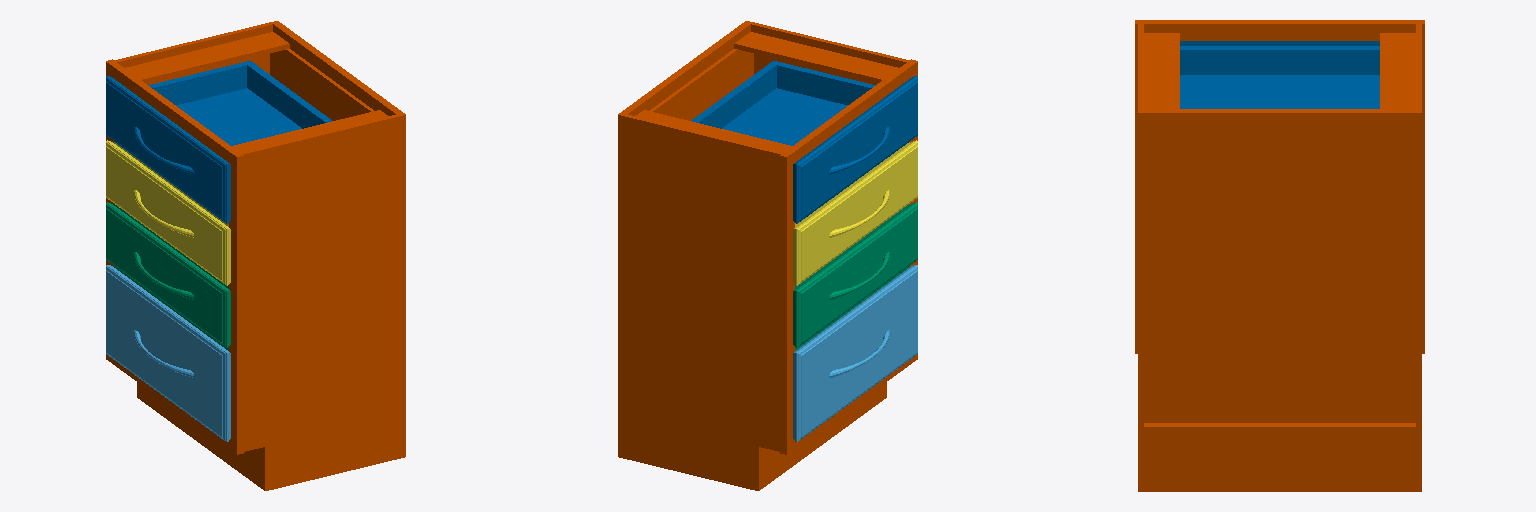
--- What the picture shows (computed from the rendered views, not written in the file) ---
The picture shows the robot from 3 angles, left to right: view 1: azimuth 30°, elevation 25°; view 2: azimuth 150°, elevation 25°; view 3: azimuth 270°, elevation 25°; orthographic projection.
Robot: partnet_973023bbf9c6a603c59350d819542ec7 — 6 links, 5 joints (4 prismatic, 1 fixed); root link base; default pose: all joints at 0.
Links seen in each view (by area): view 1: link_4, link_3, link_0, link_1, link_2; view 2: link_4, link_3, link_0, link_1, link_2; view 3: link_4, link_3.
Boxes of the visible links, left/top/right/bottom form: link_4: left=106, top=21, right=405, bottom=490; link_3: left=106, top=61, right=331, bottom=223; link_0: left=106, top=265, right=230, bottom=441; link_1: left=106, top=202, right=230, bottom=350; link_2: left=106, top=140, right=230, bottom=285; link_4: left=618, top=21, right=917, bottom=490; link_3: left=692, top=61, right=917, bottom=223; link_0: left=793, top=265, right=917, bottom=441; link_1: left=793, top=202, right=917, bottom=350; link_2: left=793, top=140, right=917, bottom=285; link_4: left=1135, top=20, right=1424, bottom=491; link_3: left=1180, top=41, right=1379, bottom=108.
Size in the robot's own frame: 0.8832 by 1.05 by 1.51 metres.
Meshes: 93 distinct files referenced, 93 mesh visuals loaded (93 OBJ).

URDF robot description (partnet_973023bbf9c6a603c59350d819542ec7):
<?xml version="1.0" ?>
<robot name="partnet_973023bbf9c6a603c59350d819542ec7">
	<link name="base"/>
	<link name="link_0">
		<visual name="drawer_front-39">
			<origin xyz="0 0 0"/>
			<geometry>
				<mesh filename="textured_objs/original-64.obj"/>
			</geometry>
		</visual>
		<visual name="drawer_front-39">
			<origin xyz="0 0 0"/>
			<geometry>
				<mesh filename="textured_objs/original-65.obj"/>
			</geometry>
		</visual>
		<visual name="drawer_front-39">
			<origin xyz="0 0 0"/>
			<geometry>
				<mesh filename="textured_objs/original-66.obj"/>
			</geometry>
		</visual>
		<visual name="drawer_front-39">
			<origin xyz="0 0 0"/>
			<geometry>
				<mesh filename="textured_objs/original-67.obj"/>
			</geometry>
		</visual>
		<visual name="drawer_front-39">
			<origin xyz="0 0 0"/>
			<geometry>
				<mesh filename="textured_objs/original-58.obj"/>
			</geometry>
		</visual>
		<visual name="drawer_front-39">
			<origin xyz="0 0 0"/>
			<geometry>
				<mesh filename="textured_objs/original-60.obj"/>
			</geometry>
		</visual>
		<visual name="drawer_front-39">
			<origin xyz="0 0 0"/>
			<geometry>
				<mesh filename="textured_objs/original-68.obj"/>
			</geometry>
		</visual>
		<visual name="drawer_front-39">
			<origin xyz="0 0 0"/>
			<geometry>
				<mesh filename="textured_objs/original-61.obj"/>
			</geometry>
		</visual>
		<visual name="drawer_front-39">
			<origin xyz="0 0 0"/>
			<geometry>
				<mesh filename="textured_objs/original-59.obj"/>
			</geometry>
		</visual>
		<visual name="drawer_front-39">
			<origin xyz="0 0 0"/>
			<geometry>
				<mesh filename="textured_objs/original-63.obj"/>
			</geometry>
		</visual>
		<visual name="drawer_front-39">
			<origin xyz="0 0 0"/>
			<geometry>
				<mesh filename="textured_objs/original-50.obj"/>
			</geometry>
		</visual>
		<visual name="drawer_side-40">
			<origin xyz="0 0 0"/>
			<geometry>
				<mesh filename="textured_objs/original-54.obj"/>
			</geometry>
		</visual>
		<visual name="drawer_side-41">
			<origin xyz="0 0 0"/>
			<geometry>
				<mesh filename="textured_objs/original-49.obj"/>
			</geometry>
		</visual>
		<visual name="drawer_back-42">
			<origin xyz="0 0 0"/>
			<geometry>
				<mesh filename="textured_objs/original-55.obj"/>
			</geometry>
		</visual>
		<visual name="drawer_bottom-43">
			<origin xyz="0 0 0"/>
			<geometry>
				<mesh filename="textured_objs/original-53.obj"/>
			</geometry>
		</visual>
		<visual name="drawer_bottom-43">
			<origin xyz="0 0 0"/>
			<geometry>
				<mesh filename="textured_objs/original-52.obj"/>
			</geometry>
		</visual>
		<visual name="other_leaf-45">
			<origin xyz="0 0 0"/>
			<geometry>
				<mesh filename="textured_objs/original-56.obj"/>
			</geometry>
		</visual>
		<visual name="handle-38">
			<origin xyz="0 0 0"/>
			<geometry>
				<mesh filename="textured_objs/original-69.obj"/>
			</geometry>
		</visual>
		<collision>
			<origin xyz="0 0 0"/>
			<geometry>
				<mesh filename="textured_objs/original-64.obj"/>
			</geometry>
		</collision>
		<collision>
			<origin xyz="0 0 0"/>
			<geometry>
				<mesh filename="textured_objs/original-65.obj"/>
			</geometry>
		</collision>
		<collision>
			<origin xyz="0 0 0"/>
			<geometry>
				<mesh filename="textured_objs/original-66.obj"/>
			</geometry>
		</collision>
		<collision>
			<origin xyz="0 0 0"/>
			<geometry>
				<mesh filename="textured_objs/original-67.obj"/>
			</geometry>
		</collision>
		<collision>
			<origin xyz="0 0 0"/>
			<geometry>
				<mesh filename="textured_objs/original-58.obj"/>
			</geometry>
		</collision>
		<collision>
			<origin xyz="0 0 0"/>
			<geometry>
				<mesh filename="textured_objs/original-60.obj"/>
			</geometry>
		</collision>
		<collision>
			<origin xyz="0 0 0"/>
			<geometry>
				<mesh filename="textured_objs/original-68.obj"/>
			</geometry>
		</collision>
		<collision>
			<origin xyz="0 0 0"/>
			<geometry>
				<mesh filename="textured_objs/original-61.obj"/>
			</geometry>
		</collision>
		<collision>
			<origin xyz="0 0 0"/>
			<geometry>
				<mesh filename="textured_objs/original-59.obj"/>
			</geometry>
		</collision>
		<collision>
			<origin xyz="0 0 0"/>
			<geometry>
				<mesh filename="textured_objs/original-63.obj"/>
			</geometry>
		</collision>
		<collision>
			<origin xyz="0 0 0"/>
			<geometry>
				<mesh filename="textured_objs/original-50.obj"/>
			</geometry>
		</collision>
		<collision>
			<origin xyz="0 0 0"/>
			<geometry>
				<mesh filename="textured_objs/original-54.obj"/>
			</geometry>
		</collision>
		<collision>
			<origin xyz="0 0 0"/>
			<geometry>
				<mesh filename="textured_objs/original-49.obj"/>
			</geometry>
		</collision>
		<collision>
			<origin xyz="0 0 0"/>
			<geometry>
				<mesh filename="textured_objs/original-55.obj"/>
			</geometry>
		</collision>
		<collision>
			<origin xyz="0 0 0"/>
			<geometry>
				<mesh filename="textured_objs/original-53.obj"/>
			</geometry>
		</collision>
		<collision>
			<origin xyz="0 0 0"/>
			<geometry>
				<mesh filename="textured_objs/original-52.obj"/>
			</geometry>
		</collision>
		<collision>
			<origin xyz="0 0 0"/>
			<geometry>
				<mesh filename="textured_objs/original-56.obj"/>
			</geometry>
		</collision>
		<collision>
			<origin xyz="0 0 0"/>
			<geometry>
				<mesh filename="textured_objs/original-69.obj"/>
			</geometry>
		</collision>
	</link>
	<joint name="joint_0" type="prismatic">
		<origin xyz="0 0 0"/>
		<axis xyz="0 0 1"/>
		<child link="link_0"/>
		<parent link="link_4"/>
		<limit lower="0" upper="0.55"/>
	</joint>
	<link name="link_1">
		<visual name="drawer_front-30">
			<origin xyz="0 0 0"/>
			<geometry>
				<mesh filename="textured_objs/original-96.obj"/>
			</geometry>
		</visual>
		<visual name="drawer_front-30">
			<origin xyz="0 0 0"/>
			<geometry>
				<mesh filename="textured_objs/original-22.obj"/>
			</geometry>
		</visual>
		<visual name="drawer_front-30">
			<origin xyz="0 0 0"/>
			<geometry>
				<mesh filename="textured_objs/original-109.obj"/>
			</geometry>
		</visual>
		<visual name="drawer_front-30">
			<origin xyz="0 0 0"/>
			<geometry>
				<mesh filename="textured_objs/original-110.obj"/>
			</geometry>
		</visual>
		<visual name="drawer_front-30">
			<origin xyz="0 0 0"/>
			<geometry>
				<mesh filename="textured_objs/original-104.obj"/>
			</geometry>
		</visual>
		<visual name="drawer_front-30">
			<origin xyz="0 0 0"/>
			<geometry>
				<mesh filename="textured_objs/original-111.obj"/>
			</geometry>
		</visual>
		<visual name="drawer_front-30">
			<origin xyz="0 0 0"/>
			<geometry>
				<mesh filename="textured_objs/original-113.obj"/>
			</geometry>
		</visual>
		<visual name="drawer_front-30">
			<origin xyz="0 0 0"/>
			<geometry>
				<mesh filename="textured_objs/original-112.obj"/>
			</geometry>
		</visual>
		<visual name="drawer_front-30">
			<origin xyz="0 0 0"/>
			<geometry>
				<mesh filename="textured_objs/original-114.obj"/>
			</geometry>
		</visual>
		<visual name="drawer_front-30">
			<origin xyz="0 0 0"/>
			<geometry>
				<mesh filename="textured_objs/original-106.obj"/>
			</geometry>
		</visual>
		<visual name="drawer_front-30">
			<origin xyz="0 0 0"/>
			<geometry>
				<mesh filename="textured_objs/original-107.obj"/>
			</geometry>
		</visual>
		<visual name="drawer_front-30">
			<origin xyz="0 0 0"/>
			<geometry>
				<mesh filename="textured_objs/original-105.obj"/>
			</geometry>
		</visual>
		<visual name="drawer_front-30">
			<origin xyz="0 0 0"/>
			<geometry>
				<mesh filename="textured_objs/original-23.obj"/>
			</geometry>
		</visual>
		<visual name="drawer_side-31">
			<origin xyz="0 0 0"/>
			<geometry>
				<mesh filename="textured_objs/original-95.obj"/>
			</geometry>
		</visual>
		<visual name="drawer_side-32">
			<origin xyz="0 0 0"/>
			<geometry>
				<mesh filename="textured_objs/original-100.obj"/>
			</geometry>
		</visual>
		<visual name="drawer_back-33">
			<origin xyz="0 0 0"/>
			<geometry>
				<mesh filename="textured_objs/original-101.obj"/>
			</geometry>
		</visual>
		<visual name="drawer_bottom-34">
			<origin xyz="0 0 0"/>
			<geometry>
				<mesh filename="textured_objs/original-99.obj"/>
			</geometry>
		</visual>
		<visual name="drawer_bottom-34">
			<origin xyz="0 0 0"/>
			<geometry>
				<mesh filename="textured_objs/original-98.obj"/>
			</geometry>
		</visual>
		<visual name="other_leaf-36">
			<origin xyz="0 0 0"/>
			<geometry>
				<mesh filename="textured_objs/original-102.obj"/>
			</geometry>
		</visual>
		<visual name="handle-29">
			<origin xyz="0 0 0"/>
			<geometry>
				<mesh filename="textured_objs/original-115.obj"/>
			</geometry>
		</visual>
		<collision>
			<origin xyz="0 0 0"/>
			<geometry>
				<mesh filename="textured_objs/original-96.obj"/>
			</geometry>
		</collision>
		<collision>
			<origin xyz="0 0 0"/>
			<geometry>
				<mesh filename="textured_objs/original-22.obj"/>
			</geometry>
		</collision>
		<collision>
			<origin xyz="0 0 0"/>
			<geometry>
				<mesh filename="textured_objs/original-109.obj"/>
			</geometry>
		</collision>
		<collision>
			<origin xyz="0 0 0"/>
			<geometry>
				<mesh filename="textured_objs/original-110.obj"/>
			</geometry>
		</collision>
		<collision>
			<origin xyz="0 0 0"/>
			<geometry>
				<mesh filename="textured_objs/original-104.obj"/>
			</geometry>
		</collision>
		<collision>
			<origin xyz="0 0 0"/>
			<geometry>
				<mesh filename="textured_objs/original-111.obj"/>
			</geometry>
		</collision>
		<collision>
			<origin xyz="0 0 0"/>
			<geometry>
				<mesh filename="textured_objs/original-113.obj"/>
			</geometry>
		</collision>
		<collision>
			<origin xyz="0 0 0"/>
			<geometry>
				<mesh filename="textured_objs/original-112.obj"/>
			</geometry>
		</collision>
		<collision>
			<origin xyz="0 0 0"/>
			<geometry>
				<mesh filename="textured_objs/original-114.obj"/>
			</geometry>
		</collision>
		<collision>
			<origin xyz="0 0 0"/>
			<geometry>
				<mesh filename="textured_objs/original-106.obj"/>
			</geometry>
		</collision>
		<collision>
			<origin xyz="0 0 0"/>
			<geometry>
				<mesh filename="textured_objs/original-107.obj"/>
			</geometry>
		</collision>
		<collision>
			<origin xyz="0 0 0"/>
			<geometry>
				<mesh filename="textured_objs/original-105.obj"/>
			</geometry>
		</collision>
		<collision>
			<origin xyz="0 0 0"/>
			<geometry>
				<mesh filename="textured_objs/original-23.obj"/>
			</geometry>
		</collision>
		<collision>
			<origin xyz="0 0 0"/>
			<geometry>
				<mesh filename="textured_objs/original-95.obj"/>
			</geometry>
		</collision>
		<collision>
			<origin xyz="0 0 0"/>
			<geometry>
				<mesh filename="textured_objs/original-100.obj"/>
			</geometry>
		</collision>
		<collision>
			<origin xyz="0 0 0"/>
			<geometry>
				<mesh filename="textured_objs/original-101.obj"/>
			</geometry>
		</collision>
		<collision>
			<origin xyz="0 0 0"/>
			<geometry>
				<mesh filename="textured_objs/original-99.obj"/>
			</geometry>
		</collision>
		<collision>
			<origin xyz="0 0 0"/>
			<geometry>
				<mesh filename="textured_objs/original-98.obj"/>
			</geometry>
		</collision>
		<collision>
			<origin xyz="0 0 0"/>
			<geometry>
				<mesh filename="textured_objs/original-102.obj"/>
			</geometry>
		</collision>
		<collision>
			<origin xyz="0 0 0"/>
			<geometry>
				<mesh filename="textured_objs/original-115.obj"/>
			</geometry>
		</collision>
	</link>
	<joint name="joint_1" type="prismatic">
		<origin xyz="0 0 0"/>
		<axis xyz="0 0 1"/>
		<child link="link_1"/>
		<parent link="link_4"/>
		<limit lower="0" upper="0.55"/>
	</joint>
	<link name="link_2">
		<visual name="drawer_side-21">
			<origin xyz="0 0 0"/>
			<geometry>
				<mesh filename="textured_objs/original-72.obj"/>
			</geometry>
		</visual>
		<visual name="drawer_side-22">
			<origin xyz="0 0 0"/>
			<geometry>
				<mesh filename="textured_objs/original-77.obj"/>
			</geometry>
		</visual>
		<visual name="drawer_back-23">
			<origin xyz="0 0 0"/>
			<geometry>
				<mesh filename="textured_objs/original-78.obj"/>
			</geometry>
		</visual>
		<visual name="drawer_bottom-24">
			<origin xyz="0 0 0"/>
			<geometry>
				<mesh filename="textured_objs/original-76.obj"/>
			</geometry>
		</visual>
		<visual name="drawer_bottom-24">
			<origin xyz="0 0 0"/>
			<geometry>
				<mesh filename="textured_objs/original-75.obj"/>
			</geometry>
		</visual>
		<visual name="drawer_front-25">
			<origin xyz="0 0 0"/>
			<geometry>
				<mesh filename="textured_objs/original-17.obj"/>
			</geometry>
		</visual>
		<visual name="drawer_front-25">
			<origin xyz="0 0 0"/>
			<geometry>
				<mesh filename="textured_objs/original-90.obj"/>
			</geometry>
		</visual>
		<visual name="drawer_front-25">
			<origin xyz="0 0 0"/>
			<geometry>
				<mesh filename="textured_objs/original-81.obj"/>
			</geometry>
		</visual>
		<visual name="drawer_front-25">
			<origin xyz="0 0 0"/>
			<geometry>
				<mesh filename="textured_objs/original-88.obj"/>
			</geometry>
		</visual>
		<visual name="drawer_front-25">
			<origin xyz="0 0 0"/>
			<geometry>
				<mesh filename="textured_objs/original-91.obj"/>
			</geometry>
		</visual>
		<visual name="drawer_front-25">
			<origin xyz="0 0 0"/>
			<geometry>
				<mesh filename="textured_objs/original-83.obj"/>
			</geometry>
		</visual>
		<visual name="drawer_front-25">
			<origin xyz="0 0 0"/>
			<geometry>
				<mesh filename="textured_objs/original-87.obj"/>
			</geometry>
		</visual>
		<visual name="drawer_front-25">
			<origin xyz="0 0 0"/>
			<geometry>
				<mesh filename="textured_objs/original-89.obj"/>
			</geometry>
		</visual>
		<visual name="drawer_front-25">
			<origin xyz="0 0 0"/>
			<geometry>
				<mesh filename="textured_objs/original-82.obj"/>
			</geometry>
		</visual>
		<visual name="drawer_front-25">
			<origin xyz="0 0 0"/>
			<geometry>
				<mesh filename="textured_objs/original-84.obj"/>
			</geometry>
		</visual>
		<visual name="drawer_front-25">
			<origin xyz="0 0 0"/>
			<geometry>
				<mesh filename="textured_objs/original-73.obj"/>
			</geometry>
		</visual>
		<visual name="drawer_front-25">
			<origin xyz="0 0 0"/>
			<geometry>
				<mesh filename="textured_objs/original-86.obj"/>
			</geometry>
		</visual>
		<visual name="other_leaf-27">
			<origin xyz="0 0 0"/>
			<geometry>
				<mesh filename="textured_objs/original-79.obj"/>
			</geometry>
		</visual>
		<visual name="handle-19">
			<origin xyz="0 0 0"/>
			<geometry>
				<mesh filename="textured_objs/original-92.obj"/>
			</geometry>
		</visual>
		<collision>
			<origin xyz="0 0 0"/>
			<geometry>
				<mesh filename="textured_objs/original-72.obj"/>
			</geometry>
		</collision>
		<collision>
			<origin xyz="0 0 0"/>
			<geometry>
				<mesh filename="textured_objs/original-77.obj"/>
			</geometry>
		</collision>
		<collision>
			<origin xyz="0 0 0"/>
			<geometry>
				<mesh filename="textured_objs/original-78.obj"/>
			</geometry>
		</collision>
		<collision>
			<origin xyz="0 0 0"/>
			<geometry>
				<mesh filename="textured_objs/original-76.obj"/>
			</geometry>
		</collision>
		<collision>
			<origin xyz="0 0 0"/>
			<geometry>
				<mesh filename="textured_objs/original-75.obj"/>
			</geometry>
		</collision>
		<collision>
			<origin xyz="0 0 0"/>
			<geometry>
				<mesh filename="textured_objs/original-17.obj"/>
			</geometry>
		</collision>
		<collision>
			<origin xyz="0 0 0"/>
			<geometry>
				<mesh filename="textured_objs/original-90.obj"/>
			</geometry>
		</collision>
		<collision>
			<origin xyz="0 0 0"/>
			<geometry>
				<mesh filename="textured_objs/original-81.obj"/>
			</geometry>
		</collision>
		<collision>
			<origin xyz="0 0 0"/>
			<geometry>
				<mesh filename="textured_objs/original-88.obj"/>
			</geometry>
		</collision>
		<collision>
			<origin xyz="0 0 0"/>
			<geometry>
				<mesh filename="textured_objs/original-91.obj"/>
			</geometry>
		</collision>
		<collision>
			<origin xyz="0 0 0"/>
			<geometry>
				<mesh filename="textured_objs/original-83.obj"/>
			</geometry>
		</collision>
		<collision>
			<origin xyz="0 0 0"/>
			<geometry>
				<mesh filename="textured_objs/original-87.obj"/>
			</geometry>
		</collision>
		<collision>
			<origin xyz="0 0 0"/>
			<geometry>
				<mesh filename="textured_objs/original-89.obj"/>
			</geometry>
		</collision>
		<collision>
			<origin xyz="0 0 0"/>
			<geometry>
				<mesh filename="textured_objs/original-82.obj"/>
			</geometry>
		</collision>
		<collision>
			<origin xyz="0 0 0"/>
			<geometry>
				<mesh filename="textured_objs/original-84.obj"/>
			</geometry>
		</collision>
		<collision>
			<origin xyz="0 0 0"/>
			<geometry>
				<mesh filename="textured_objs/original-73.obj"/>
			</geometry>
		</collision>
		<collision>
			<origin xyz="0 0 0"/>
			<geometry>
				<mesh filename="textured_objs/original-86.obj"/>
			</geometry>
		</collision>
		<collision>
			<origin xyz="0 0 0"/>
			<geometry>
				<mesh filename="textured_objs/original-79.obj"/>
			</geometry>
		</collision>
		<collision>
			<origin xyz="0 0 0"/>
			<geometry>
				<mesh filename="textured_objs/original-92.obj"/>
			</geometry>
		</collision>
	</link>
	<joint name="joint_2" type="prismatic">
		<origin xyz="0 0 0"/>
		<axis xyz="0 0 1"/>
		<child link="link_2"/>
		<parent link="link_4"/>
		<limit lower="0" upper="0.55"/>
	</joint>
	<link name="link_3">
		<visual name="drawer_side-11">
			<origin xyz="0 0 0"/>
			<geometry>
				<mesh filename="textured_objs/original-31.obj"/>
			</geometry>
		</visual>
		<visual name="drawer_side-12">
			<origin xyz="0 0 0"/>
			<geometry>
				<mesh filename="textured_objs/original-26.obj"/>
			</geometry>
		</visual>
		<visual name="drawer_back-13">
			<origin xyz="0 0 0"/>
			<geometry>
				<mesh filename="textured_objs/original-32.obj"/>
			</geometry>
		</visual>
		<visual name="drawer_bottom-14">
			<origin xyz="0 0 0"/>
			<geometry>
				<mesh filename="textured_objs/original-30.obj"/>
			</geometry>
		</visual>
		<visual name="drawer_bottom-14">
			<origin xyz="0 0 0"/>
			<geometry>
				<mesh filename="textured_objs/original-29.obj"/>
			</geometry>
		</visual>
		<visual name="drawer_front-15">
			<origin xyz="0 0 0"/>
			<geometry>
				<mesh filename="textured_objs/original-41.obj"/>
			</geometry>
		</visual>
		<visual name="drawer_front-15">
			<origin xyz="0 0 0"/>
			<geometry>
				<mesh filename="textured_objs/original-42.obj"/>
			</geometry>
		</visual>
		<visual name="drawer_front-15">
			<origin xyz="0 0 0"/>
			<geometry>
				<mesh filename="textured_objs/original-44.obj"/>
			</geometry>
		</visual>
		<visual name="drawer_front-15">
			<origin xyz="0 0 0"/>
			<geometry>
				<mesh filename="textured_objs/original-43.obj"/>
			</geometry>
		</visual>
		<visual name="drawer_front-15">
			<origin xyz="0 0 0"/>
			<geometry>
				<mesh filename="textured_objs/original-45.obj"/>
			</geometry>
		</visual>
		<visual name="drawer_front-15">
			<origin xyz="0 0 0"/>
			<geometry>
				<mesh filename="textured_objs/original-38.obj"/>
			</geometry>
		</visual>
		<visual name="drawer_front-15">
			<origin xyz="0 0 0"/>
			<geometry>
				<mesh filename="textured_objs/original-37.obj"/>
			</geometry>
		</visual>
		<visual name="drawer_front-15">
			<origin xyz="0 0 0"/>
			<geometry>
				<mesh filename="textured_objs/original-35.obj"/>
			</geometry>
		</visual>
		<visual name="drawer_front-15">
			<origin xyz="0 0 0"/>
			<geometry>
				<mesh filename="textured_objs/original-36.obj"/>
			</geometry>
		</visual>
		<visual name="drawer_front-15">
			<origin xyz="0 0 0"/>
			<geometry>
				<mesh filename="textured_objs/original-27.obj"/>
			</geometry>
		</visual>
		<visual name="drawer_front-15">
			<origin xyz="0 0 0"/>
			<geometry>
				<mesh filename="textured_objs/original-40.obj"/>
			</geometry>
		</visual>
		<visual name="other_leaf-17">
			<origin xyz="0 0 0"/>
			<geometry>
				<mesh filename="textured_objs/original-33.obj"/>
			</geometry>
		</visual>
		<visual name="handle-9">
			<origin xyz="0 0 0"/>
			<geometry>
				<mesh filename="textured_objs/original-46.obj"/>
			</geometry>
		</visual>
		<collision>
			<origin xyz="0 0 0"/>
			<geometry>
				<mesh filename="textured_objs/original-31.obj"/>
			</geometry>
		</collision>
		<collision>
			<origin xyz="0 0 0"/>
			<geometry>
				<mesh filename="textured_objs/original-26.obj"/>
			</geometry>
		</collision>
		<collision>
			<origin xyz="0 0 0"/>
			<geometry>
				<mesh filename="textured_objs/original-32.obj"/>
			</geometry>
		</collision>
		<collision>
			<origin xyz="0 0 0"/>
			<geometry>
				<mesh filename="textured_objs/original-30.obj"/>
			</geometry>
		</collision>
		<collision>
			<origin xyz="0 0 0"/>
			<geometry>
				<mesh filename="textured_objs/original-29.obj"/>
			</geometry>
		</collision>
		<collision>
			<origin xyz="0 0 0"/>
			<geometry>
				<mesh filename="textured_objs/original-41.obj"/>
			</geometry>
		</collision>
		<collision>
			<origin xyz="0 0 0"/>
			<geometry>
				<mesh filename="textured_objs/original-42.obj"/>
			</geometry>
		</collision>
		<collision>
			<origin xyz="0 0 0"/>
			<geometry>
				<mesh filename="textured_objs/original-44.obj"/>
			</geometry>
		</collision>
		<collision>
			<origin xyz="0 0 0"/>
			<geometry>
				<mesh filename="textured_objs/original-43.obj"/>
			</geometry>
		</collision>
		<collision>
			<origin xyz="0 0 0"/>
			<geometry>
				<mesh filename="textured_objs/original-45.obj"/>
			</geometry>
		</collision>
		<collision>
			<origin xyz="0 0 0"/>
			<geometry>
				<mesh filename="textured_objs/original-38.obj"/>
			</geometry>
		</collision>
		<collision>
			<origin xyz="0 0 0"/>
			<geometry>
				<mesh filename="textured_objs/original-37.obj"/>
			</geometry>
		</collision>
		<collision>
			<origin xyz="0 0 0"/>
			<geometry>
				<mesh filename="textured_objs/original-35.obj"/>
			</geometry>
		</collision>
		<collision>
			<origin xyz="0 0 0"/>
			<geometry>
				<mesh filename="textured_objs/original-36.obj"/>
			</geometry>
		</collision>
		<collision>
			<origin xyz="0 0 0"/>
			<geometry>
				<mesh filename="textured_objs/original-27.obj"/>
			</geometry>
		</collision>
		<collision>
			<origin xyz="0 0 0"/>
			<geometry>
				<mesh filename="textured_objs/original-40.obj"/>
			</geometry>
		</collision>
		<collision>
			<origin xyz="0 0 0"/>
			<geometry>
				<mesh filename="textured_objs/original-33.obj"/>
			</geometry>
		</collision>
		<collision>
			<origin xyz="0 0 0"/>
			<geometry>
				<mesh filename="textured_objs/original-46.obj"/>
			</geometry>
		</collision>
	</link>
	<joint name="joint_3" type="prismatic">
		<origin xyz="0 0 0"/>
		<axis xyz="0 0 1"/>
		<child link="link_3"/>
		<parent link="link_4"/>
		<limit lower="0" upper="0.55"/>
	</joint>
	<link name="link_4">
		<visual name="vertical_side_panel-51">
			<origin xyz="0 0 0"/>
			<geometry>
				<mesh filename="textured_objs/original-11.obj"/>
			</geometry>
		</visual>
		<visual name="vertical_side_panel-51">
			<origin xyz="0 0 0"/>
			<geometry>
				<mesh filename="textured_objs/original-10.obj"/>
			</geometry>
		</visual>
		<visual name="vertical_side_panel-52">
			<origin xyz="0 0 0"/>
			<geometry>
				<mesh filename="textured_objs/original-15.obj"/>
			</geometry>
		</visual>
		<visual name="vertical_side_panel-52">
			<origin xyz="0 0 0"/>
			<geometry>
				<mesh filename="textured_objs/original-14.obj"/>
			</geometry>
		</visual>
		<visual name="back_panel-53">
			<origin xyz="0 0 0"/>
			<geometry>
				<mesh filename="textured_objs/original-5.obj"/>
			</geometry>
		</visual>
		<visual name="bottom_panel-54">
			<origin xyz="0 0 0"/>
			<geometry>
				<mesh filename="textured_objs/original-2.obj"/>
			</geometry>
		</visual>
		<visual name="frame_vertical_bar-55">
			<origin xyz="0 0 0"/>
			<geometry>
				<mesh filename="textured_objs/original-3.obj"/>
			</geometry>
		</visual>
		<visual name="frame_vertical_bar-56">
			<origin xyz="0 0 0"/>
			<geometry>
				<mesh filename="textured_objs/original-7.obj"/>
			</geometry>
		</visual>
		<visual name="frame_horizontal_bar-57">
			<origin xyz="0 0 0"/>
			<geometry>
				<mesh filename="textured_objs/original-4.obj"/>
			</geometry>
		</visual>
		<visual name="frame_horizontal_bar-58">
			<origin xyz="0 0 0"/>
			<geometry>
				<mesh filename="textured_objs/original-21.obj"/>
			</geometry>
		</visual>
		<visual name="frame_horizontal_bar-59">
			<origin xyz="0 0 0"/>
			<geometry>
				<mesh filename="textured_objs/original-20.obj"/>
			</geometry>
		</visual>
		<visual name="frame_horizontal_bar-60">
			<origin xyz="0 0 0"/>
			<geometry>
				<mesh filename="textured_objs/original-8.obj"/>
			</geometry>
		</visual>
		<visual name="frame_horizontal_bar-61">
			<origin xyz="0 0 0"/>
			<geometry>
				<mesh filename="textured_objs/original-6.obj"/>
			</geometry>
		</visual>
		<visual name="other_leaf-63">
			<origin xyz="0 0 0"/>
			<geometry>
				<mesh filename="textured_objs/original-116.obj"/>
			</geometry>
		</visual>
		<visual name="base_side_panel-47">
			<origin xyz="0 0 0"/>
			<geometry>
				<mesh filename="textured_objs/original-12.obj"/>
			</geometry>
		</visual>
		<visual name="base_side_panel-48">
			<origin xyz="0 0 0"/>
			<geometry>
				<mesh filename="textured_objs/original-18.obj"/>
			</geometry>
		</visual>
		<visual name="base_side_panel-49">
			<origin xyz="0 0 0"/>
			<geometry>
				<mesh filename="textured_objs/original-16.obj"/>
			</geometry>
		</visual>
		<visual name="base_side_panel-50">
			<origin xyz="0 0 0"/>
			<geometry>
				<mesh filename="textured_objs/original-19.obj"/>
			</geometry>
		</visual>
		<collision>
			<origin xyz="0 0 0"/>
			<geometry>
				<mesh filename="textured_objs/original-11.obj"/>
			</geometry>
		</collision>
		<collision>
			<origin xyz="0 0 0"/>
			<geometry>
				<mesh filename="textured_objs/original-10.obj"/>
			</geometry>
		</collision>
		<collision>
			<origin xyz="0 0 0"/>
			<geometry>
				<mesh filename="textured_objs/original-15.obj"/>
			</geometry>
		</collision>
		<collision>
			<origin xyz="0 0 0"/>
			<geometry>
				<mesh filename="textured_objs/original-14.obj"/>
			</geometry>
		</collision>
		<collision>
			<origin xyz="0 0 0"/>
			<geometry>
				<mesh filename="textured_objs/original-5.obj"/>
			</geometry>
		</collision>
		<collision>
			<origin xyz="0 0 0"/>
			<geometry>
				<mesh filename="textured_objs/original-2.obj"/>
			</geometry>
		</collision>
		<collision>
			<origin xyz="0 0 0"/>
			<geometry>
				<mesh filename="textured_objs/original-3.obj"/>
			</geometry>
		</collision>
		<collision>
			<origin xyz="0 0 0"/>
			<geometry>
				<mesh filename="textured_objs/original-7.obj"/>
			</geometry>
		</collision>
		<collision>
			<origin xyz="0 0 0"/>
			<geometry>
				<mesh filename="textured_objs/original-4.obj"/>
			</geometry>
		</collision>
		<collision>
			<origin xyz="0 0 0"/>
			<geometry>
				<mesh filename="textured_objs/original-21.obj"/>
			</geometry>
		</collision>
		<collision>
			<origin xyz="0 0 0"/>
			<geometry>
				<mesh filename="textured_objs/original-20.obj"/>
			</geometry>
		</collision>
		<collision>
			<origin xyz="0 0 0"/>
			<geometry>
				<mesh filename="textured_objs/original-8.obj"/>
			</geometry>
		</collision>
		<collision>
			<origin xyz="0 0 0"/>
			<geometry>
				<mesh filename="textured_objs/original-6.obj"/>
			</geometry>
		</collision>
		<collision>
			<origin xyz="0 0 0"/>
			<geometry>
				<mesh filename="textured_objs/original-116.obj"/>
			</geometry>
		</collision>
		<collision>
			<origin xyz="0 0 0"/>
			<geometry>
				<mesh filename="textured_objs/original-12.obj"/>
			</geometry>
		</collision>
		<collision>
			<origin xyz="0 0 0"/>
			<geometry>
				<mesh filename="textured_objs/original-18.obj"/>
			</geometry>
		</collision>
		<collision>
			<origin xyz="0 0 0"/>
			<geometry>
				<mesh filename="textured_objs/original-16.obj"/>
			</geometry>
		</collision>
		<collision>
			<origin xyz="0 0 0"/>
			<geometry>
				<mesh filename="textured_objs/original-19.obj"/>
			</geometry>
		</collision>
	</link>
	<joint name="joint_4" type="fixed">
		<origin rpy="1.570796326794897 0 -1.570796326794897" xyz="0 0 0"/>
		<child link="link_4"/>
		<parent link="base"/>
	</joint>
</robot>
